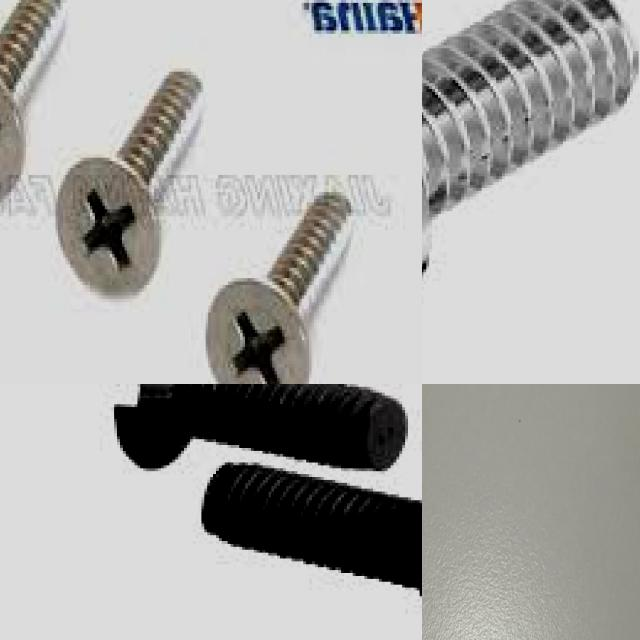Screw: (422, 0, 640, 279), (49, 55, 222, 306), (199, 462, 422, 607), (201, 185, 363, 384), (111, 384, 408, 474), (0, 0, 83, 218)
